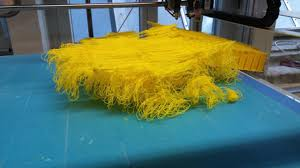fail: (27, 19, 252, 118)
